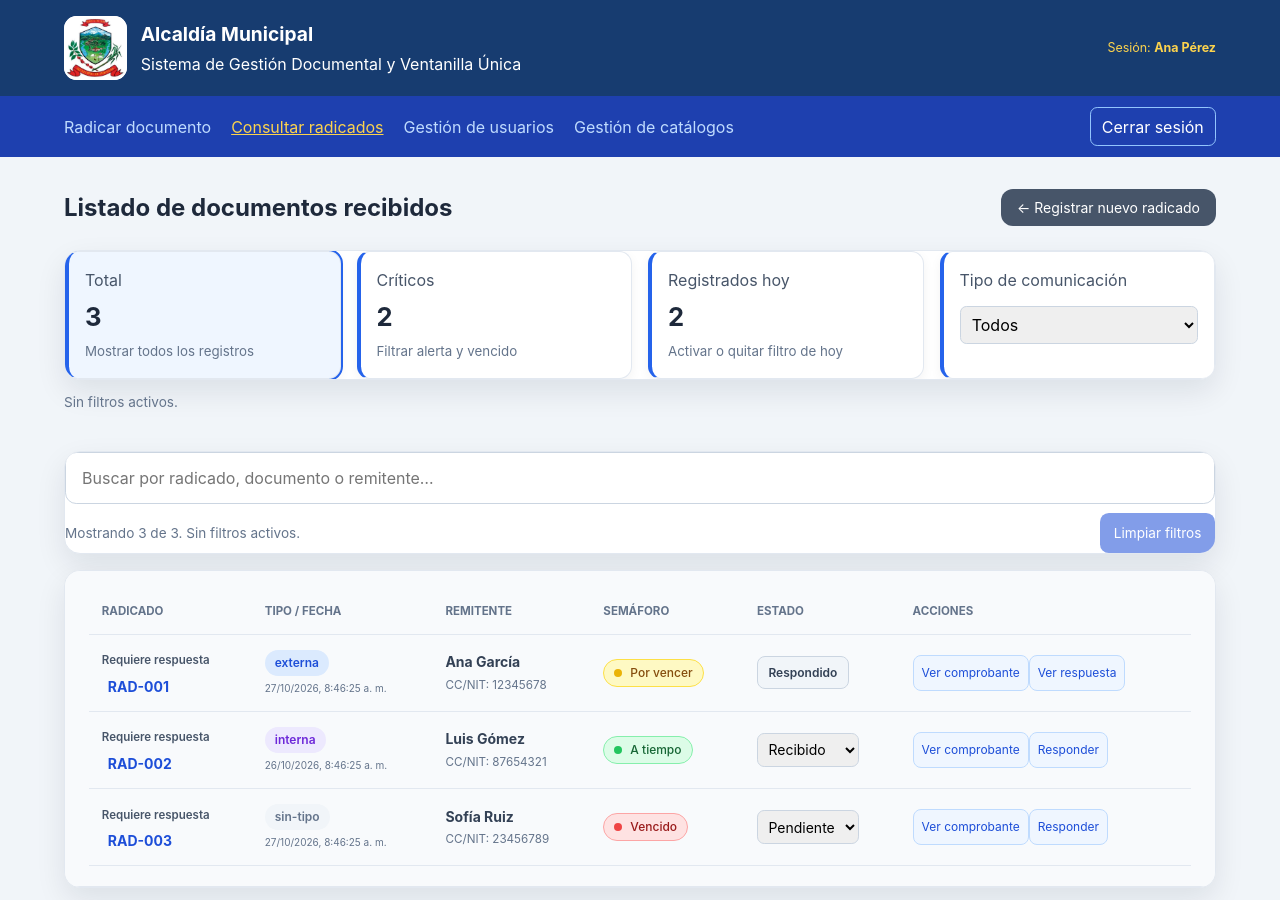
Test: consulta de radicados React › consulta la respuesta global seleccionada y muestra dependencia null
Expected: the button "RAD-001" is shown, [102,675,175,698]
Expected: the button "RAD-002" is shown, [102,752,178,775]
What coordinates should you click on to do the following:
click the button "Ver respuesta"
I would click on:
 (1077, 673)
Its box is [1029,655,1125,691].
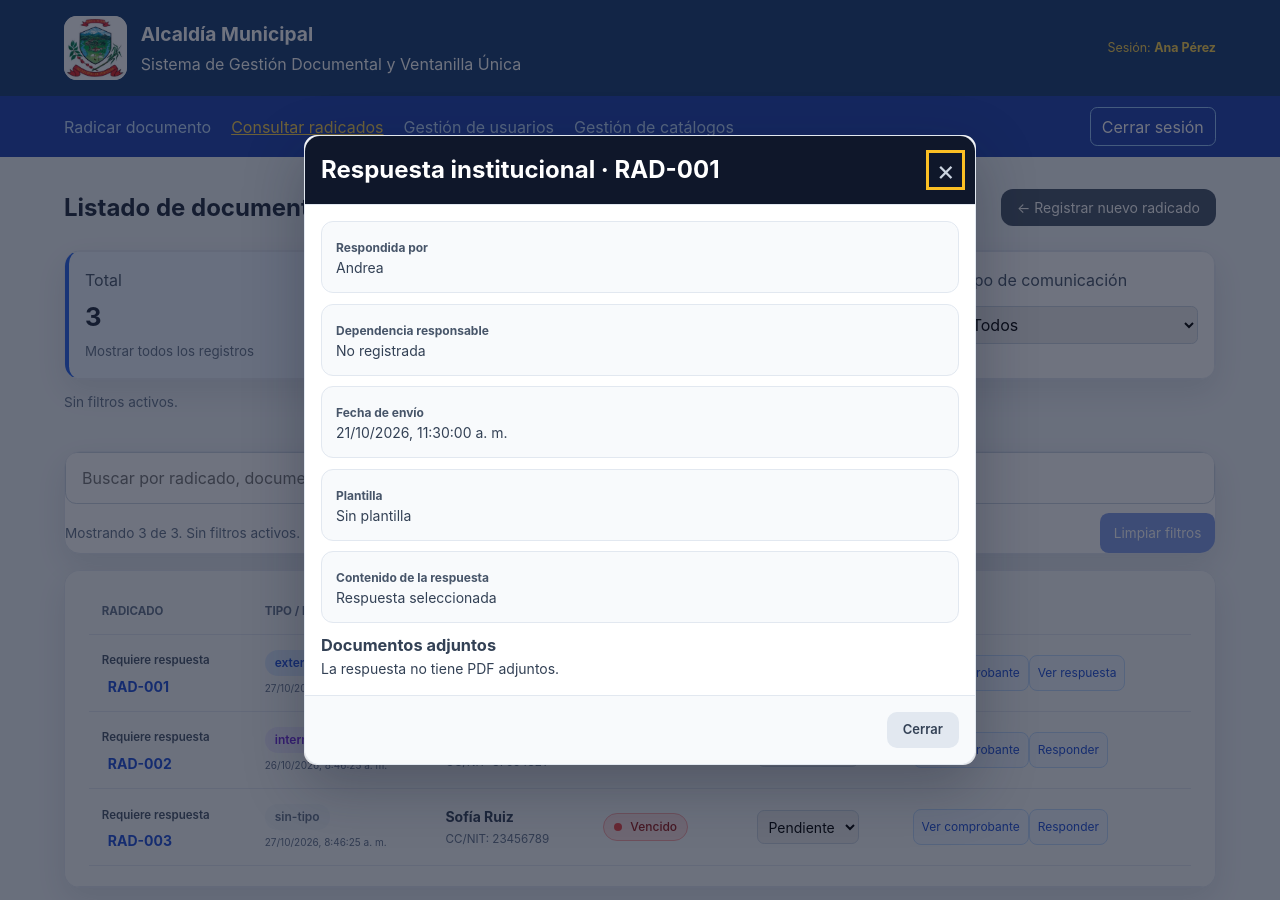
Now the text "No registrada" is shown, box [336,342,426,359]
Now the text "Andrea" is shown, box [336,260,384,276]
Now the text "La respuesta no tiene PDF adjuntos." is shown, box [321,660,559,677]
